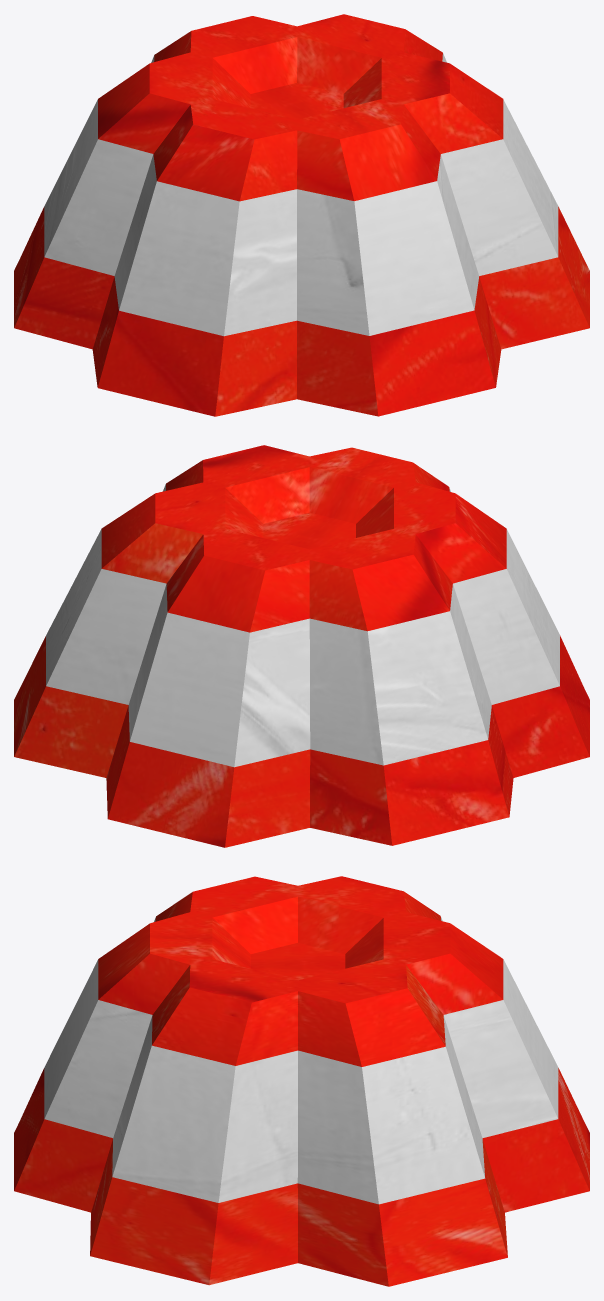
Rendered from JELLYBIG.fbx.
3 views of the same model, one above another, from view 1: azimuth 30°, elevation 25°; view 2: azimuth 150°, elevation 25°; view 3: azimuth 270°, elevation 25° (orthographic).
Visible parts, largest first — view 1: pCylinder1; view 2: pCylinder1; view 3: pCylinder1.
Part boxes in pixels (x1,y1,x2,y2): pCylinder1: (14, 14, 589, 416); pCylinder1: (14, 445, 589, 847); pCylinder1: (14, 876, 589, 1286).
Size of the model in its own units: 95.81 by 40.98 by 95.54.
Materials: 2 (2 with a texture image).
